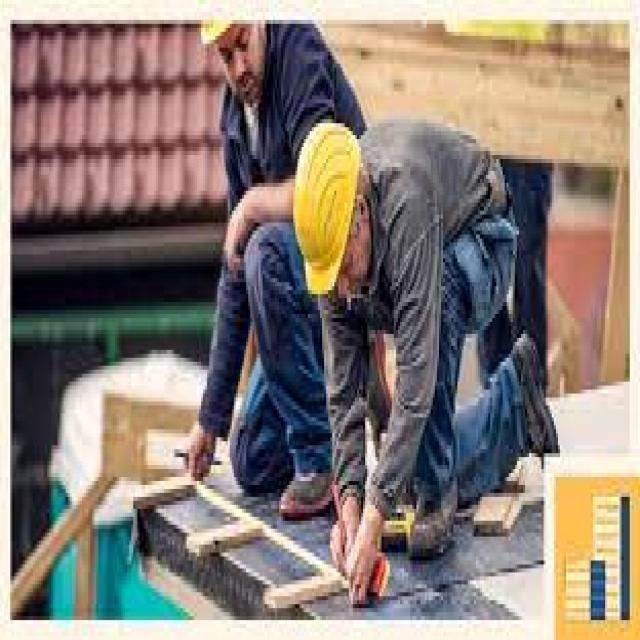Safety-Helmet: (289, 115, 367, 302), (187, 0, 275, 62)
